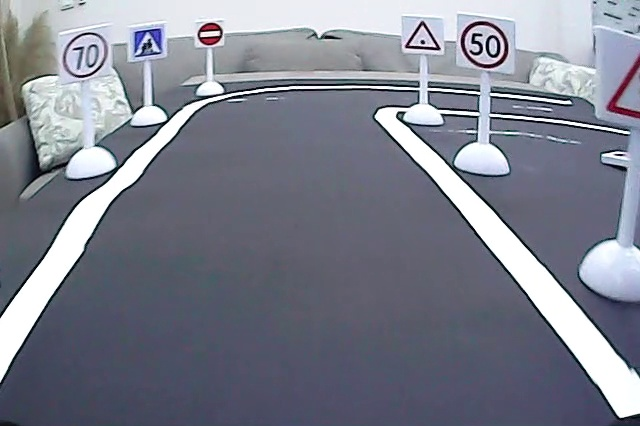do not enter: (196, 20, 224, 48)
green light: (403, 16, 444, 54)
school crossing: (131, 26, 165, 60)
speed limit 50: (457, 17, 512, 72)
speed limit 70: (60, 30, 112, 79)
